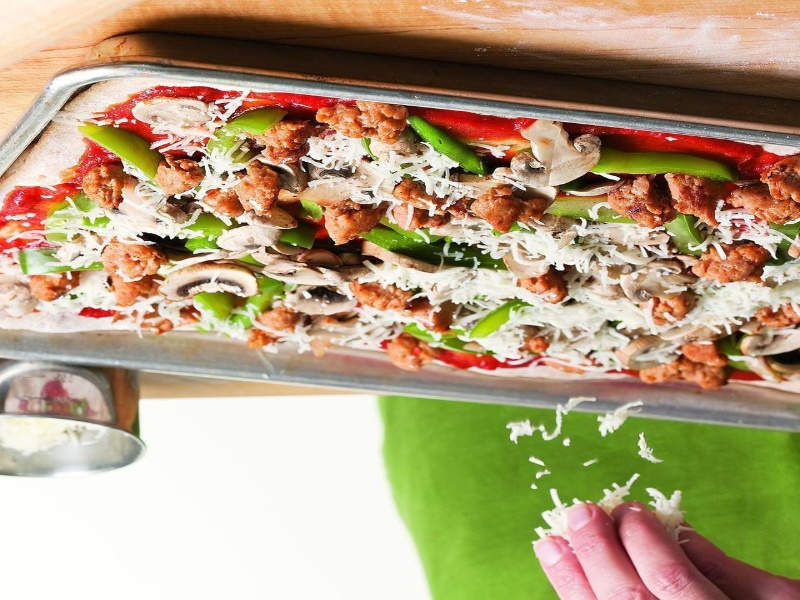champignon: (501, 120, 609, 194), (159, 257, 267, 309)
